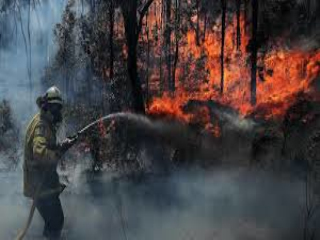fire: (125, 18, 313, 114)
